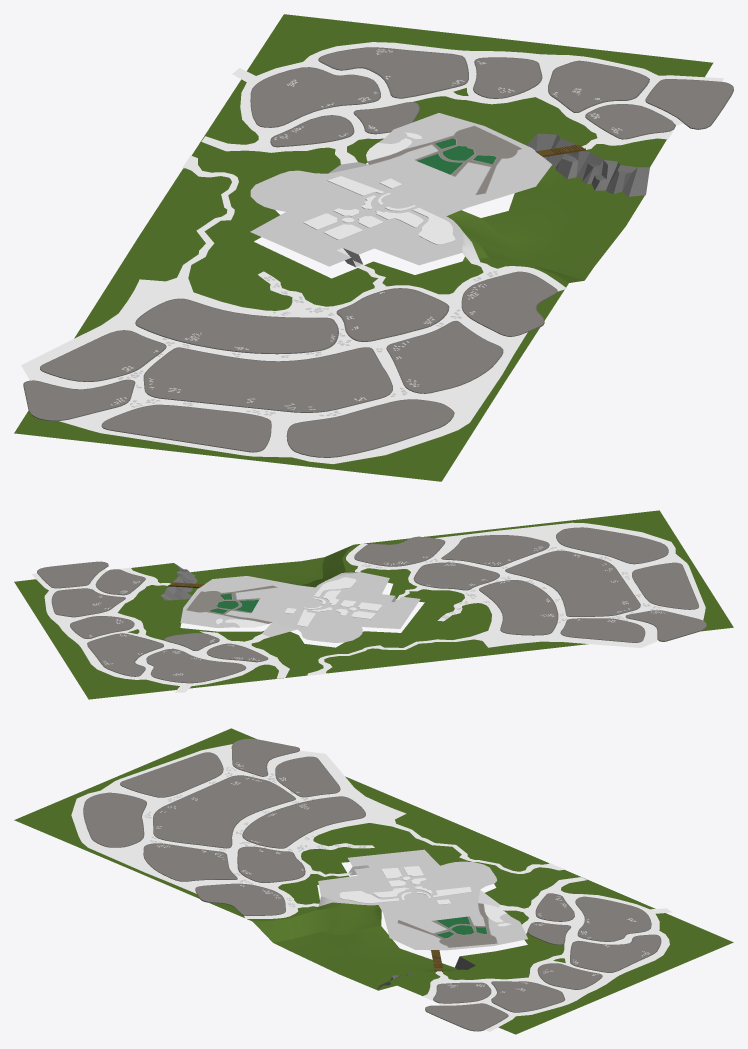
File: loc_02_road.fbx
The picture shows the model from 3 angles, top to bottom: view 1: azimuth 30°, elevation 25°; view 2: azimuth 150°, elevation 25°; view 3: azimuth 270°, elevation 25°; orthographic projection. The views are drawn at different scales.
Visible parts, largest first — view 1: env_grass_field, env_road_02, Line2132, Plane042, Line2128, Line2131, Object22313, Line2127, Line2144, Line2146, Line2130, Line2129 (+11 smaller); view 2: env_grass_field, env_road_02, Line2132, Plane042, Line2128, Line2131, Object22313, Line2127, Line2144, Line2146, Line2130, Line2129 (+10 smaller); view 3: env_grass_field, env_road_02, Line2132, Plane042, Line2128, Line2131, Object22313, Line2127, Line2144, Line2146, Line2130, Line2129 (+10 smaller).
Boxes of the visible parts, bbox=[...] form: env_grass_field: bbox=[14, 14, 713, 481]; env_road_02: bbox=[21, 42, 723, 463]; Line2132: bbox=[23, 330, 454, 457]; Plane042: bbox=[250, 162, 478, 267]; Line2128: bbox=[143, 347, 392, 412]; Line2131: bbox=[135, 298, 338, 354]; Object22313: bbox=[366, 113, 552, 207]; Line2127: bbox=[386, 320, 503, 393]; Line2144: bbox=[250, 67, 380, 127]; Line2146: bbox=[318, 47, 468, 98]; Line2130: bbox=[461, 271, 557, 336]; Line2129: bbox=[336, 288, 449, 341]; env_grass_field: bbox=[14, 510, 733, 699]; env_road_02: bbox=[31, 522, 705, 692]; Line2132: bbox=[556, 527, 706, 642]; Plane042: bbox=[262, 572, 420, 642]; Line2128: bbox=[505, 550, 640, 616]; Line2131: bbox=[479, 580, 558, 635]; Object22313: bbox=[180, 576, 297, 627]; Line2127: bbox=[441, 535, 549, 566]; Line2144: bbox=[146, 648, 246, 683]; Line2146: bbox=[87, 633, 163, 676]; Line2130: bbox=[354, 536, 445, 566]; Line2129: bbox=[413, 562, 499, 590]; env_grass_field: bbox=[14, 728, 733, 1034]; env_road_02: bbox=[71, 744, 672, 1031]; Line2132: bbox=[83, 738, 340, 847]; Plane042: bbox=[318, 849, 499, 913]; Line2128: bbox=[153, 775, 295, 848]; Line2131: bbox=[242, 796, 365, 848]; Object22313: bbox=[383, 903, 527, 950]; Line2127: bbox=[143, 843, 237, 881]; Line2144: bbox=[575, 896, 651, 941]; Line2146: bbox=[570, 934, 661, 972]; Line2130: bbox=[195, 883, 285, 915]; Line2129: bbox=[237, 846, 305, 882].
Size of what is drawn, in the model's own units: 24198 by 833 by 24035.
